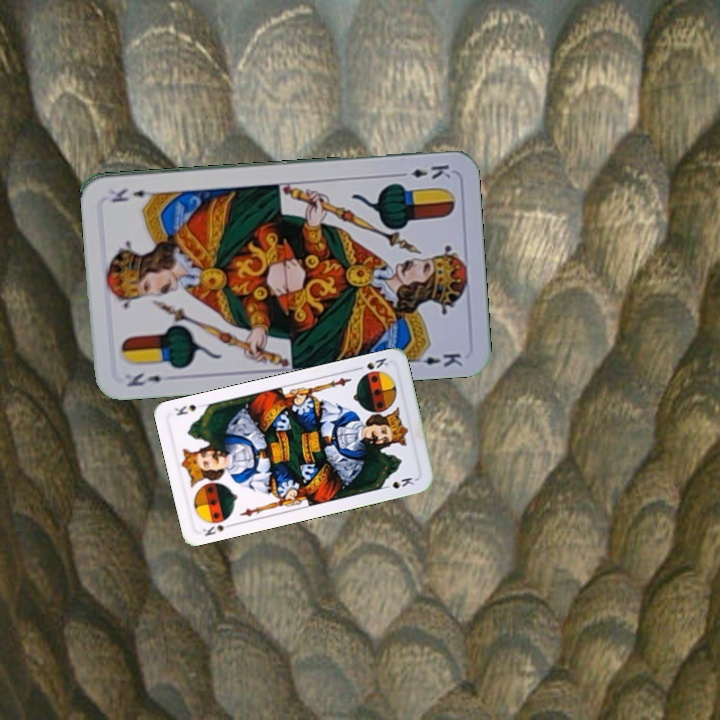EK: (394, 160, 453, 181), (123, 368, 164, 389)
SK: (199, 519, 237, 539), (352, 354, 391, 373)
